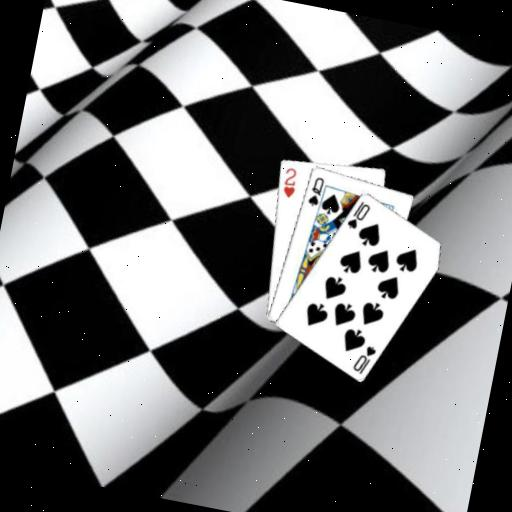10S: (349, 340, 379, 377), (344, 195, 373, 232)
2H: (278, 163, 301, 201)
QS: (303, 172, 326, 209)
